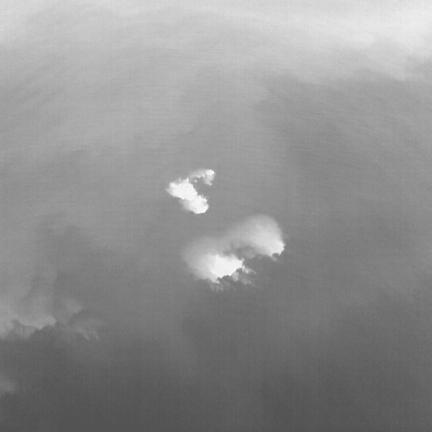flukeprints: (209, 256, 242, 281), (168, 179, 198, 201), (184, 195, 209, 213), (204, 170, 215, 183)
